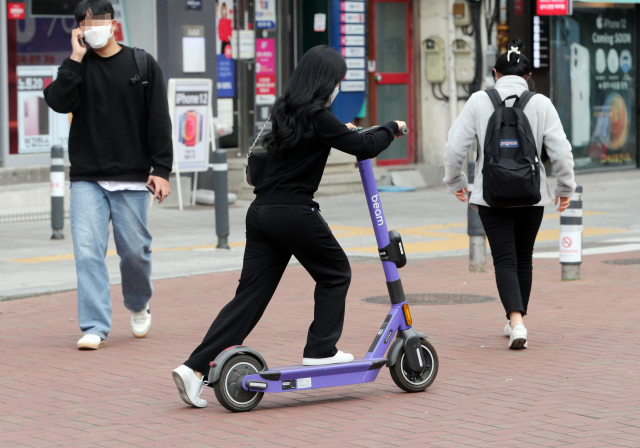scooter: (216, 120, 439, 401)
